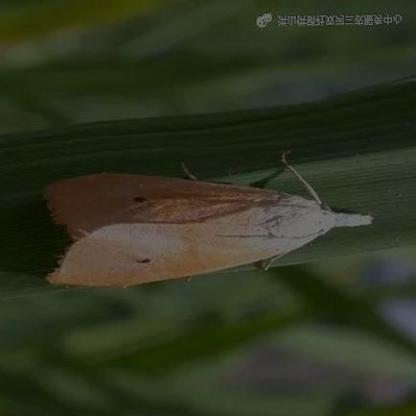stem-borer: (40, 168, 374, 292)
